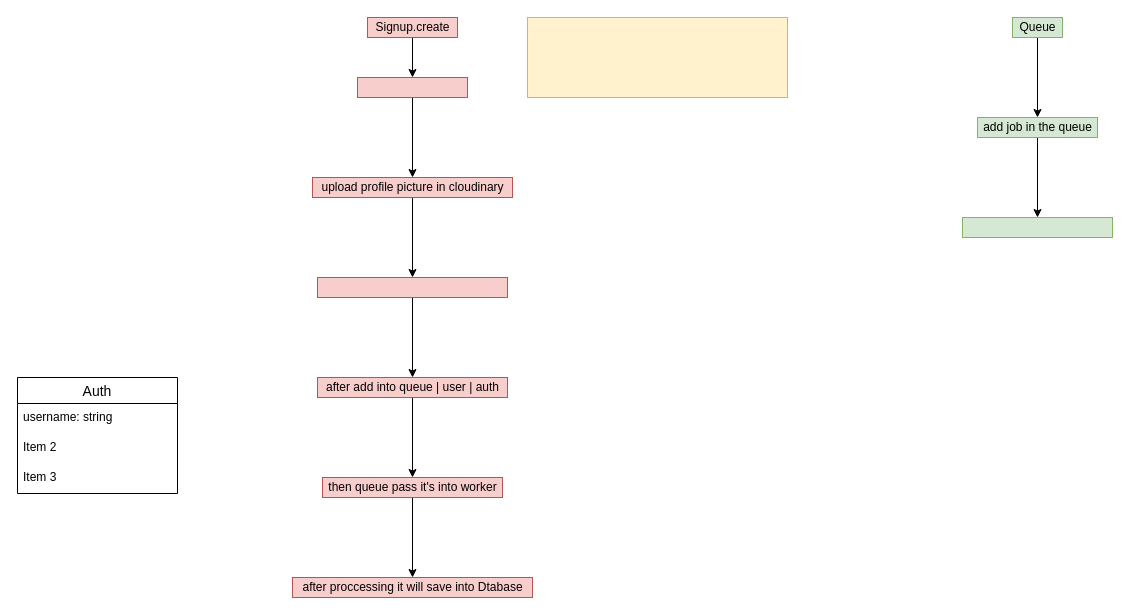
The diagram is 1130 pixels wide and 615 high, and some of its shapes have lost their labels. Each missing label, with the box of its shape:
check email exist: (356, 76, 468, 98)
for maintaining user we have two type of model 1) authDocument 2) userDocument: (526, 16, 788, 98)
job manager process job: (962, 216, 1112, 238)
save this user data in redis cache: (316, 276, 508, 298)
